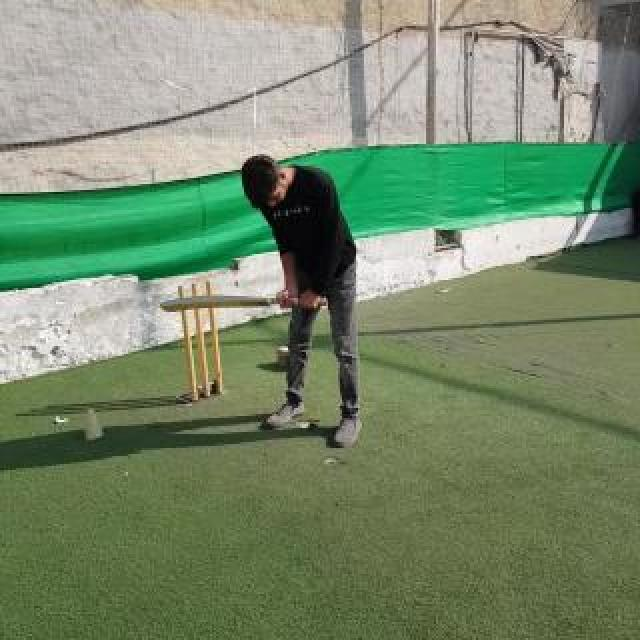bat: (160, 294, 328, 312)
